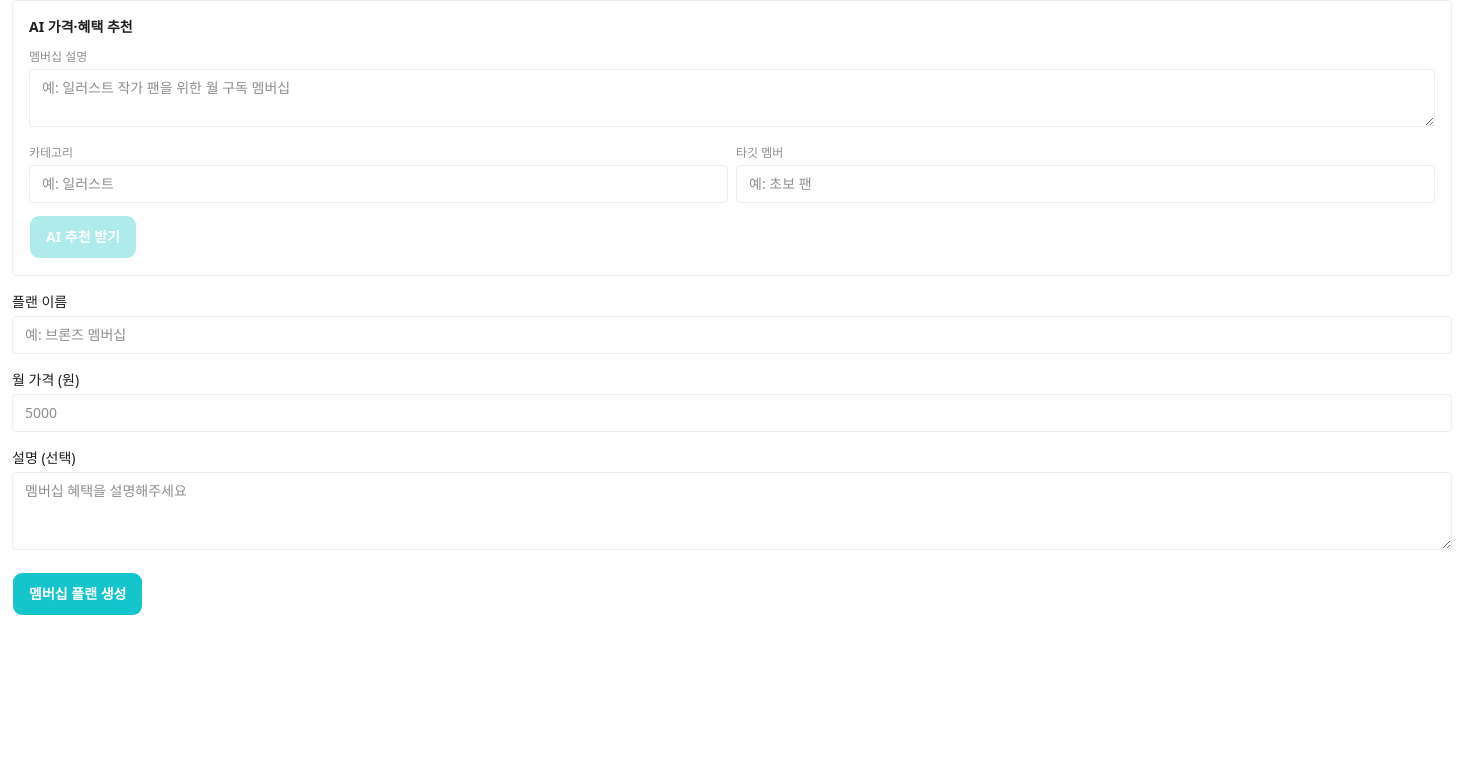
Test case: NewMembershipClient (SPEC-014 REQ-2-003, REQ-2-004) › 추천 결과에 주차 구성이 없다 (REQ-2-001: 멤버십 추천은 가격+혜택 중심)
Type "멤버십 테스트" into the text box labelled "멤버십 설명".
click(732, 98); type("멤버십 테스트")  # box [29, 69, 1435, 127]
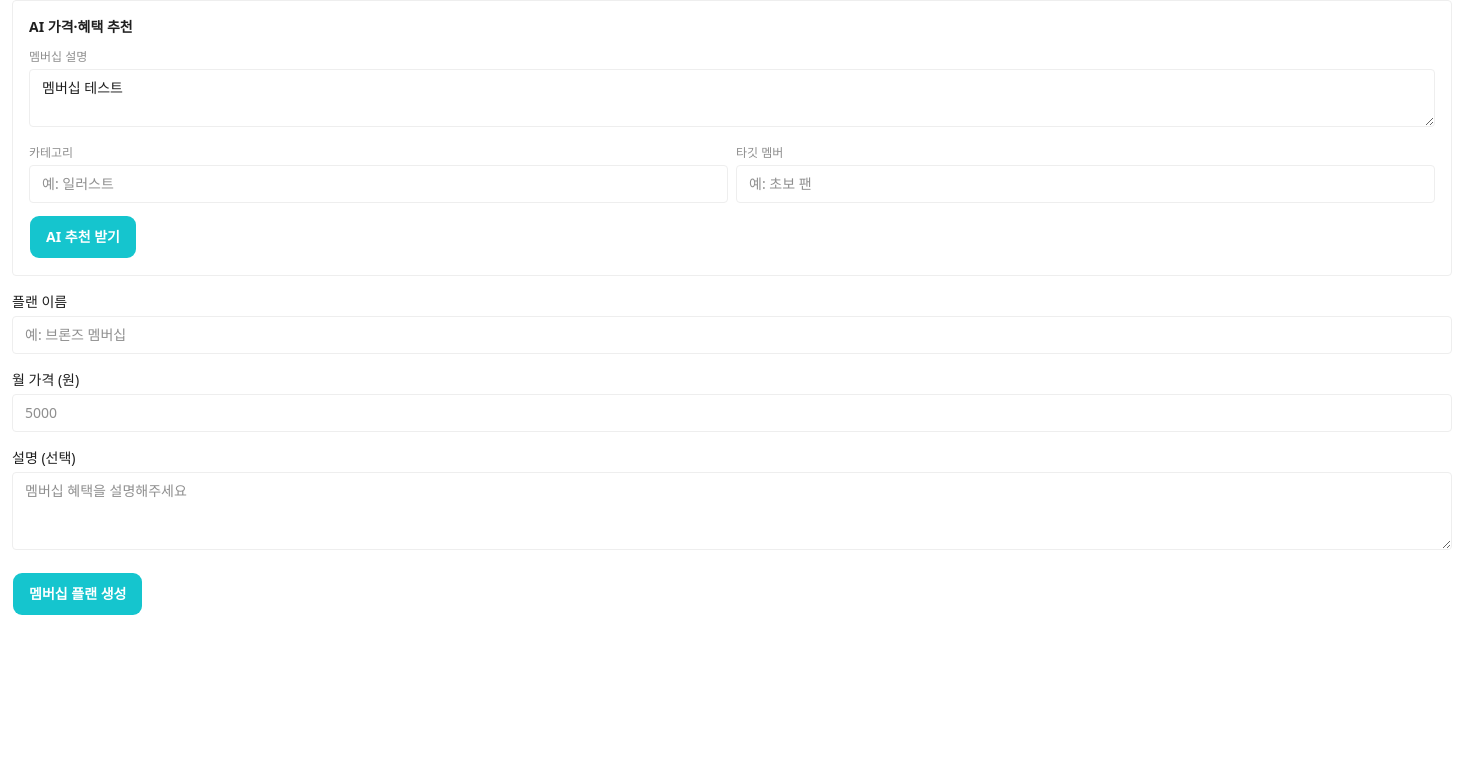
Click the button "AI 추천 받기".
click(83, 237)  # box [29, 215, 137, 259]
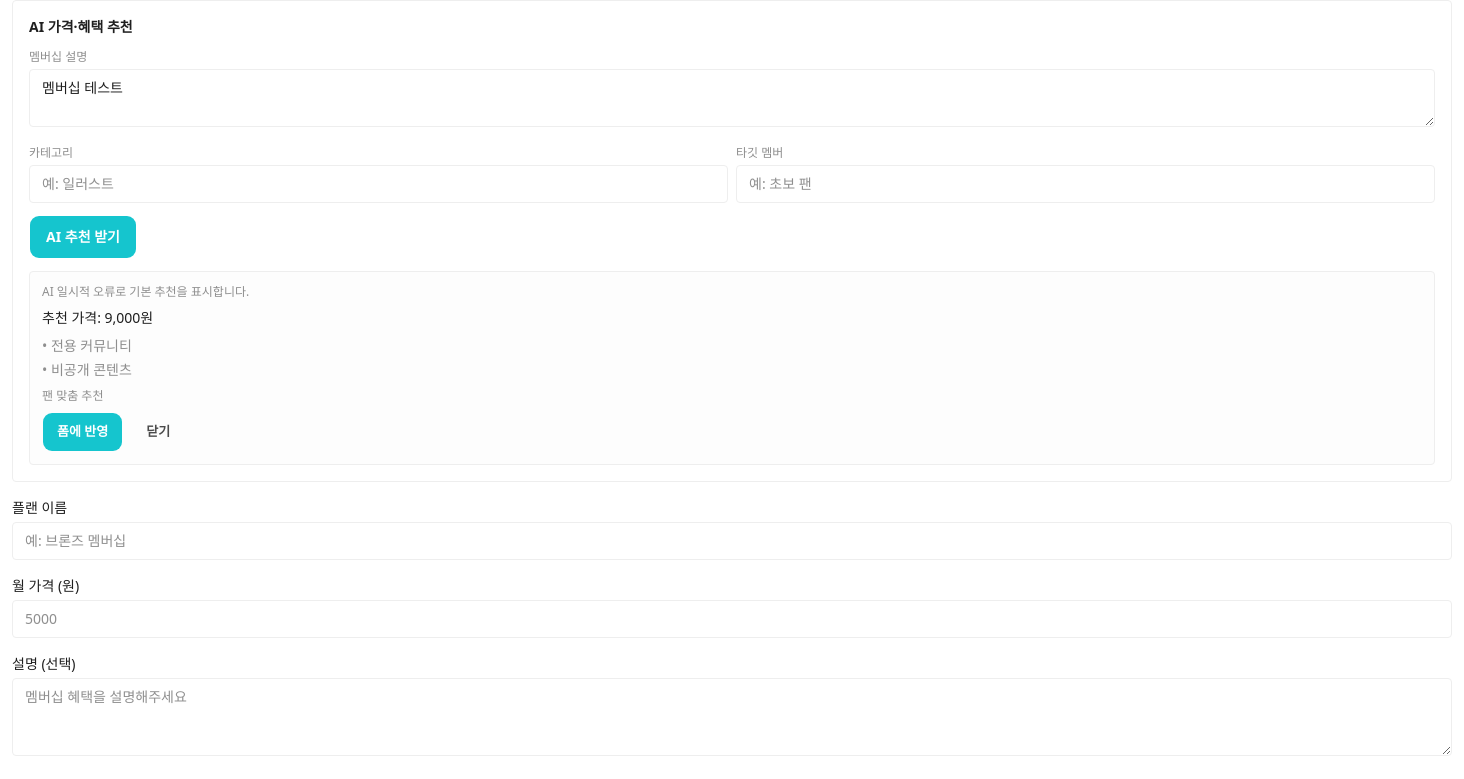
Now the text "추천 가격: 9,000원" is shown, box [42, 308, 153, 327]
